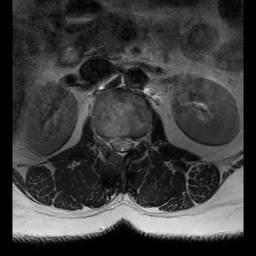CCS_normal: (117, 129, 125, 164)
LFS_normal: (133, 131, 141, 155)
LLS_normal: (125, 129, 133, 155)
RFS_normal: (102, 130, 110, 154)
RLS_normal: (110, 131, 118, 153)
